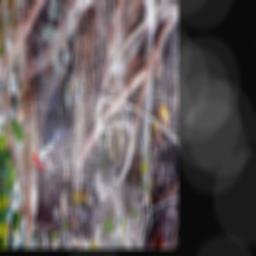Woodpecker: (28, 49, 74, 173)
